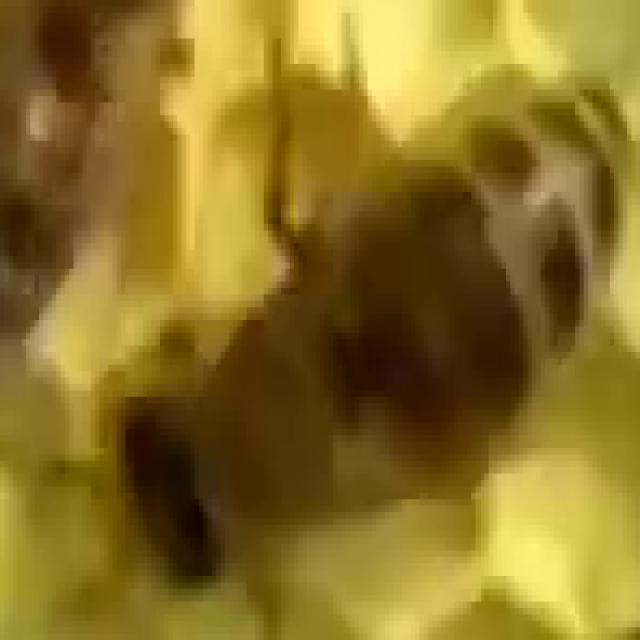honeybee: (122, 60, 624, 578)
